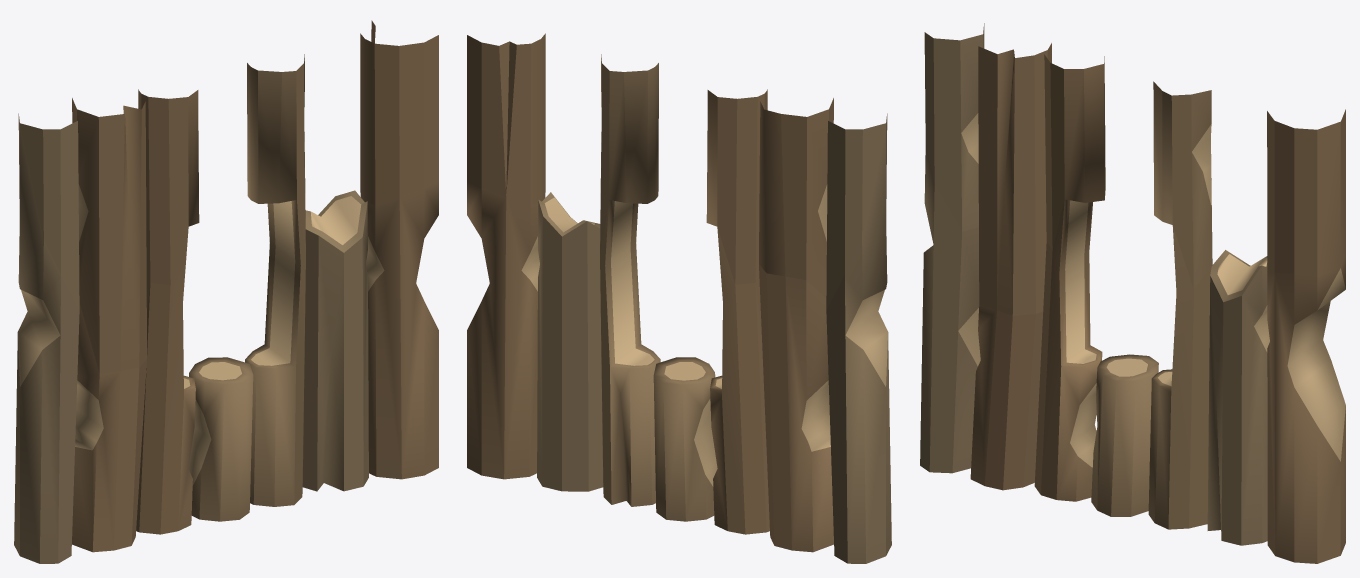
The model's file is rpgpp_av_wall_04_3x3_window_03a.gltf.
The picture shows the model from 3 angles, left to right: view 1: azimuth 30°, elevation 25°; view 2: azimuth 150°, elevation 25°; view 3: azimuth 330°, elevation 25°; orthographic projection.
Parts seen in each view (by area): view 1: rpgpp_av_wall_04_3x3_window_03a; view 2: rpgpp_av_wall_04_3x3_window_03a; view 3: rpgpp_av_wall_04_3x3_window_03a.
Boxes of the visible parts, x1,y1,x2,y2 form: rpgpp_av_wall_04_3x3_window_03a: (14, 20, 438, 563); rpgpp_av_wall_04_3x3_window_03a: (467, 33, 891, 563); rpgpp_av_wall_04_3x3_window_03a: (920, 23, 1345, 563).
Bounding box in the file's own units: 0.03 × 0.03 × 0.00463.
1 material, 1 textured.
